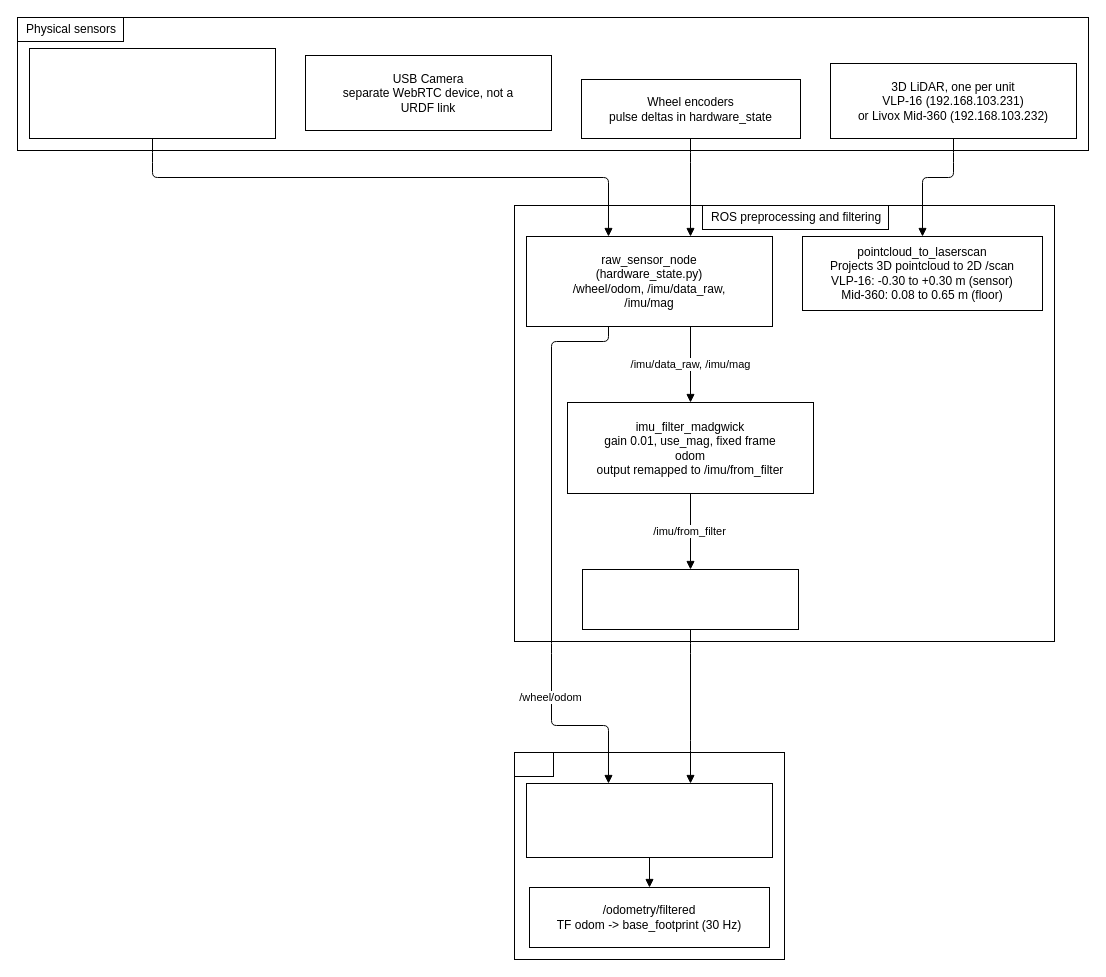
Image size: 1106x977. Some labels were removed from this diagram. Each missing label, with the centre of its shape:
"CMPS12 compass/IMU on the STM32 accel, gyro, magnetometer, heading" goes at point (152, 93).
"EKF" goes at point (534, 764).
"raw_sensor_node republishes /imu/data (frame imu)" goes at point (690, 599).
"robot_localization (ekf_localization_node) Fuses /wheel/odom and /imu/data" goes at point (649, 820).
